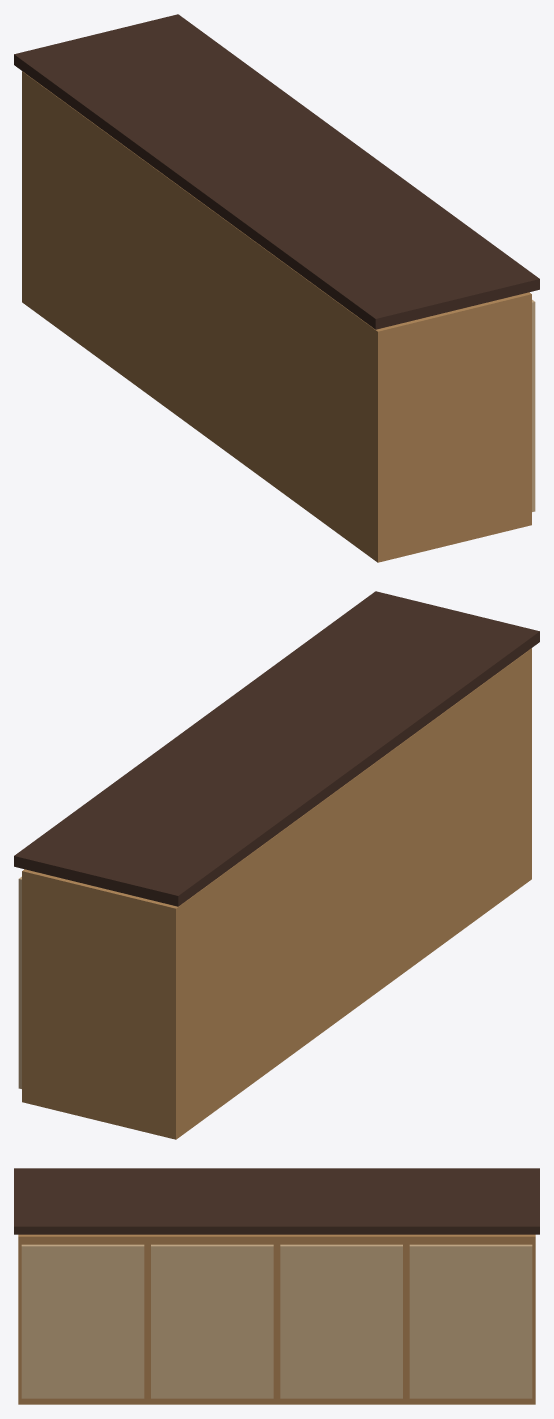
3 renders of one model, top to bottom at view 1: azimuth 30°, elevation 25°; view 2: azimuth 150°, elevation 25°; view 3: azimuth 270°, elevation 25°, orthographic. The views are drawn at different scales.
Visible parts, largest first — view 1: mueble_cocina; view 2: mueble_cocina; view 3: mueble_cocina.
Boxes of the visible parts, x1,y1,x2,y2 form: mueble_cocina: (14,14,539,562); mueble_cocina: (14,591,539,1139); mueble_cocina: (14,1168,539,1404).
Bounding box in the file's own units: 0.642 × 2.44 × 0.92.
